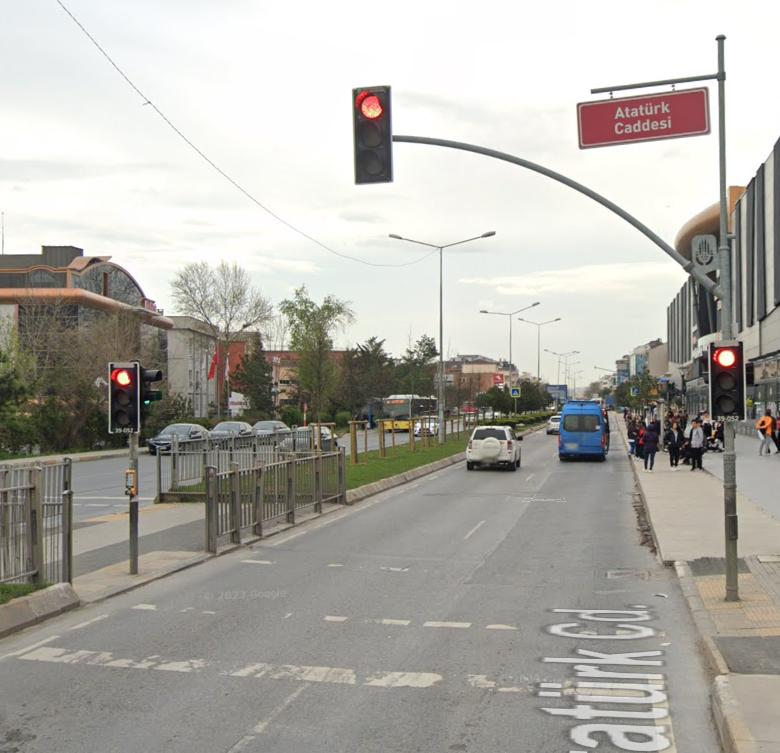redlight: (354, 85, 389, 178), (710, 343, 743, 413), (109, 362, 134, 428)
